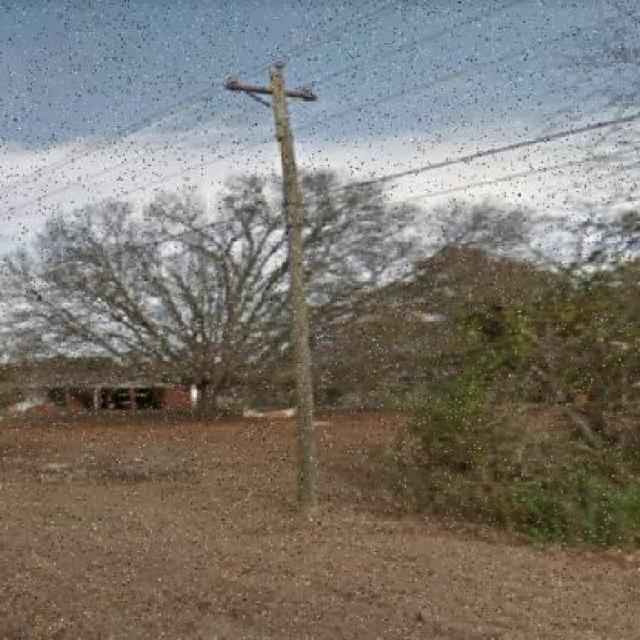crossarm: (225, 66, 317, 103)
pole: (265, 62, 317, 515)
wire: (0, 4, 639, 257), (1, 110, 640, 292)
